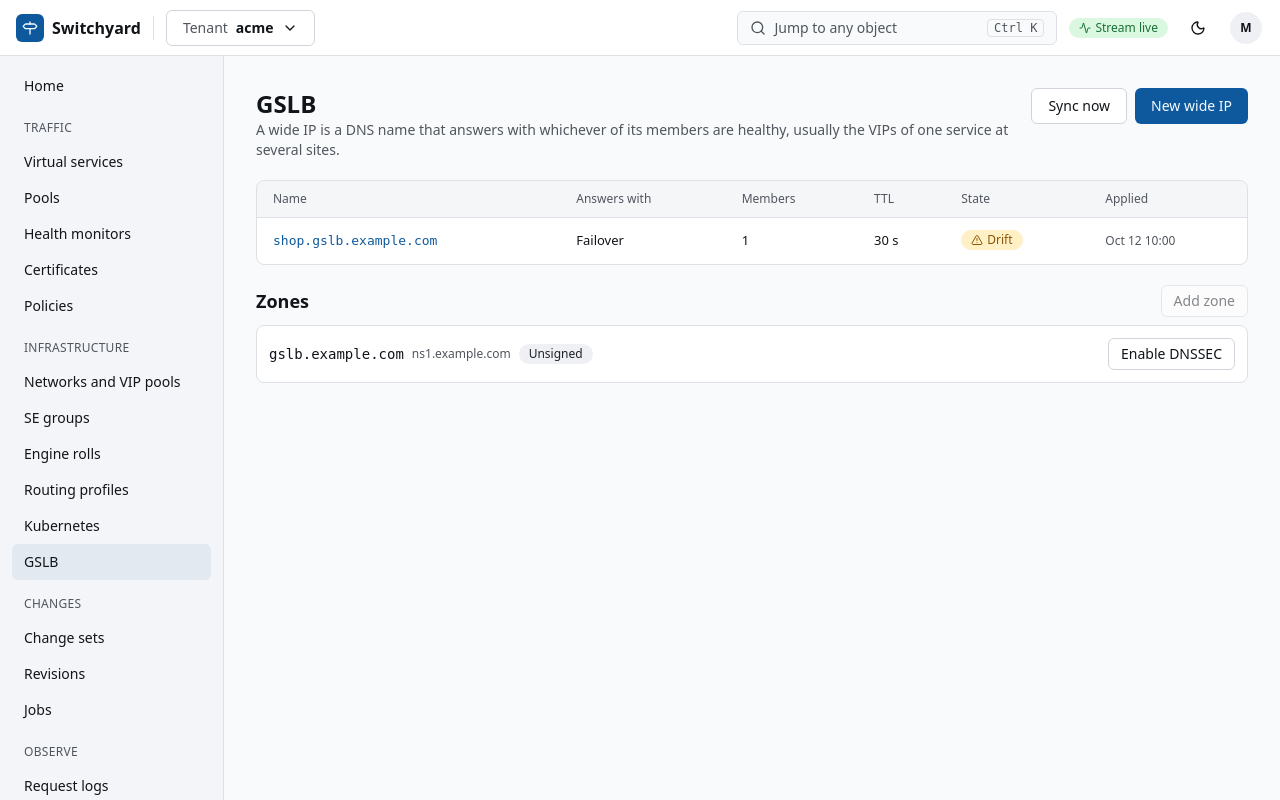
Scenario: gslb › enables DNSSEC and shows the DS records
This screenshot has width=1280, height=800.
Click the button "Enable DNSSEC" at (1172, 354), box x1=1108 y1=338 x2=1235 y2=370
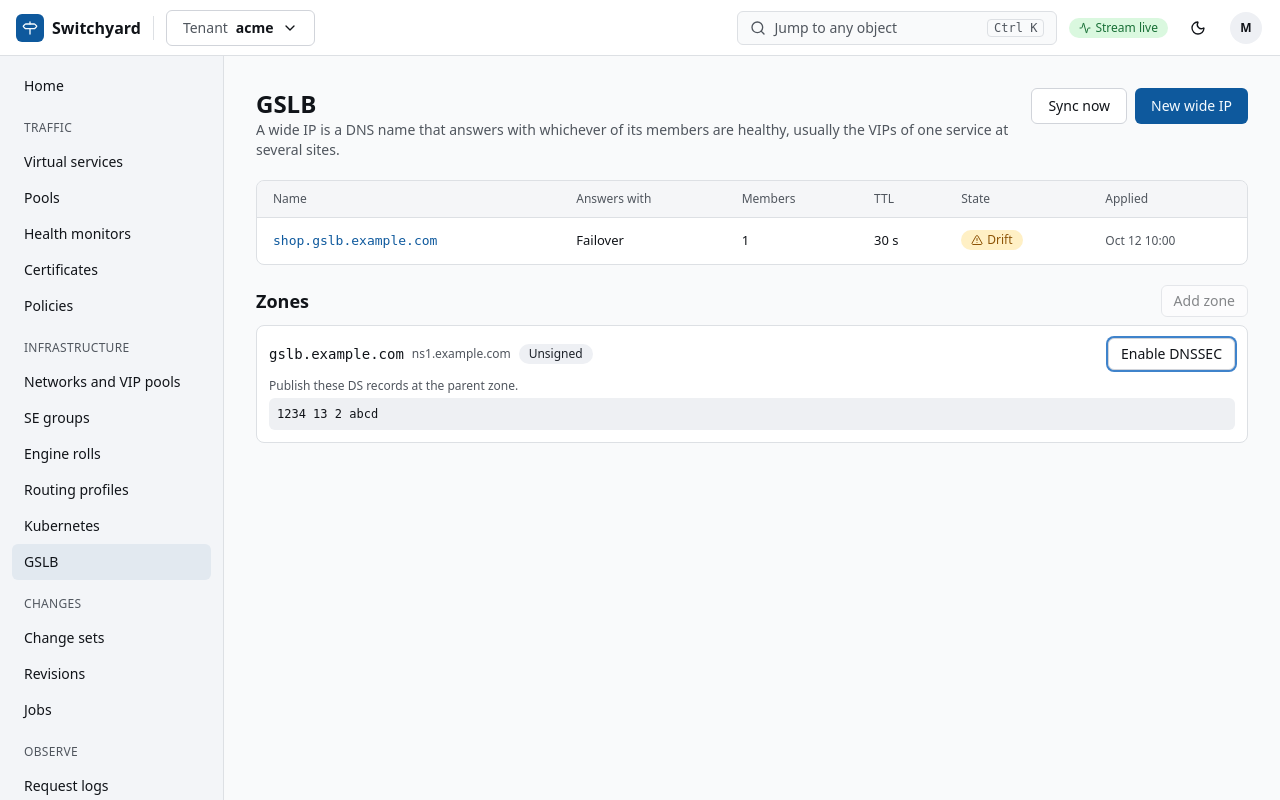
Check: the text named "DS records" reads "1234 13 2 abcd", box x1=277 y1=406 x2=378 y2=420
